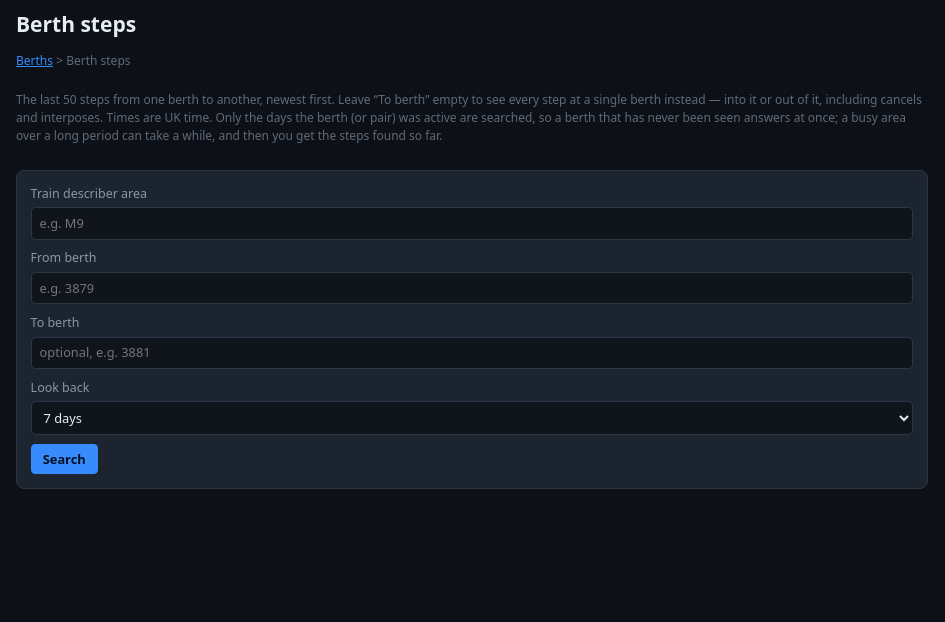
Test: BerthStepsPage (owner request 2026-09-22) › asks for the last 50 steps of the pair and lists them newest first in UK time
In the field labelled "Train describer area": point(472, 224) top-left (31, 207), bottom-right (913, 240), type "m9"
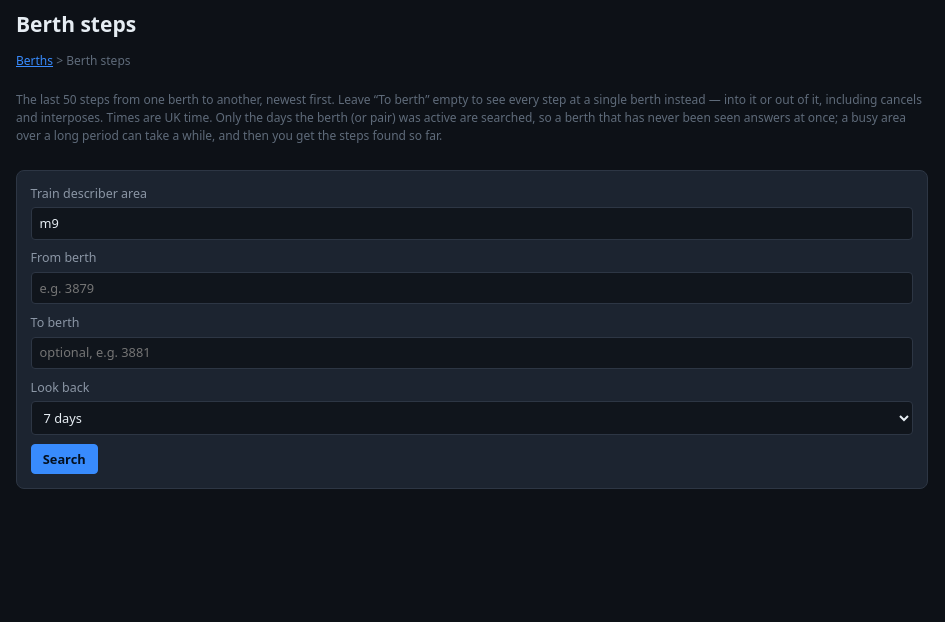
In the field labelled "From berth": point(472, 288) top-left (31, 272), bottom-right (913, 304), type "3879"
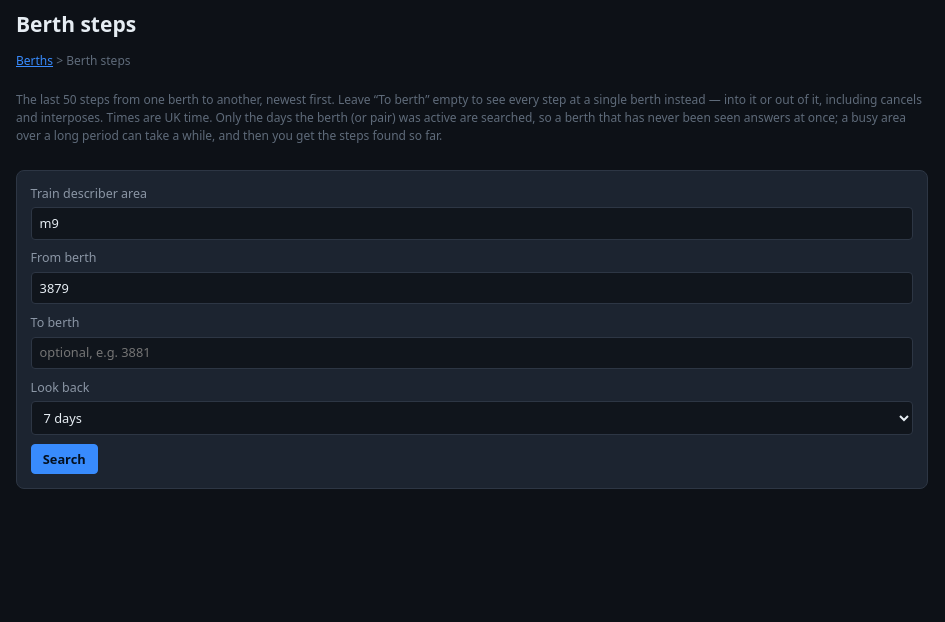
In the field labelled "To berth": point(472, 353) top-left (31, 337), bottom-right (913, 369), type "3881"
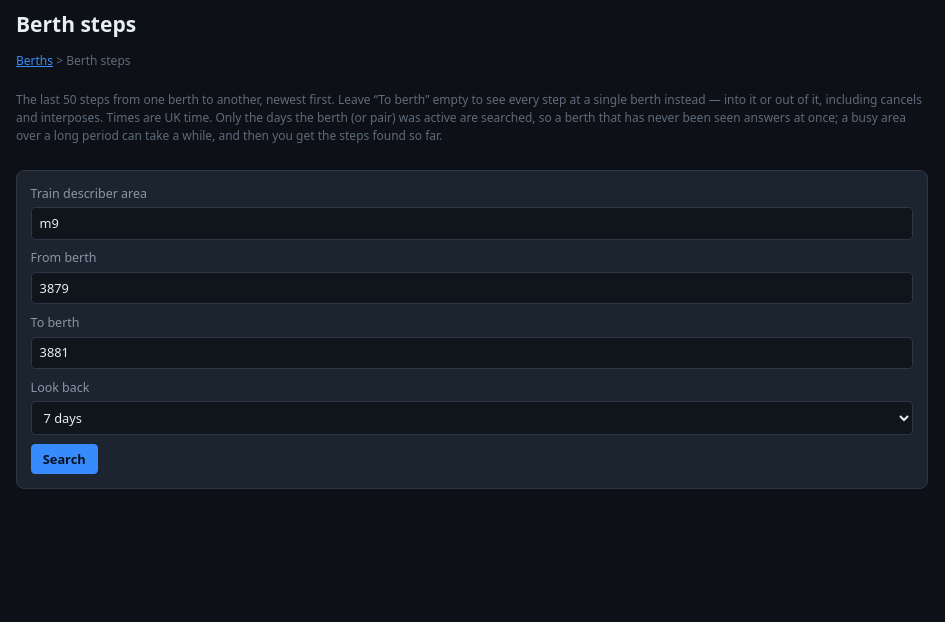
Click the button "Search": point(64, 459) top-left (31, 444), bottom-right (98, 474)
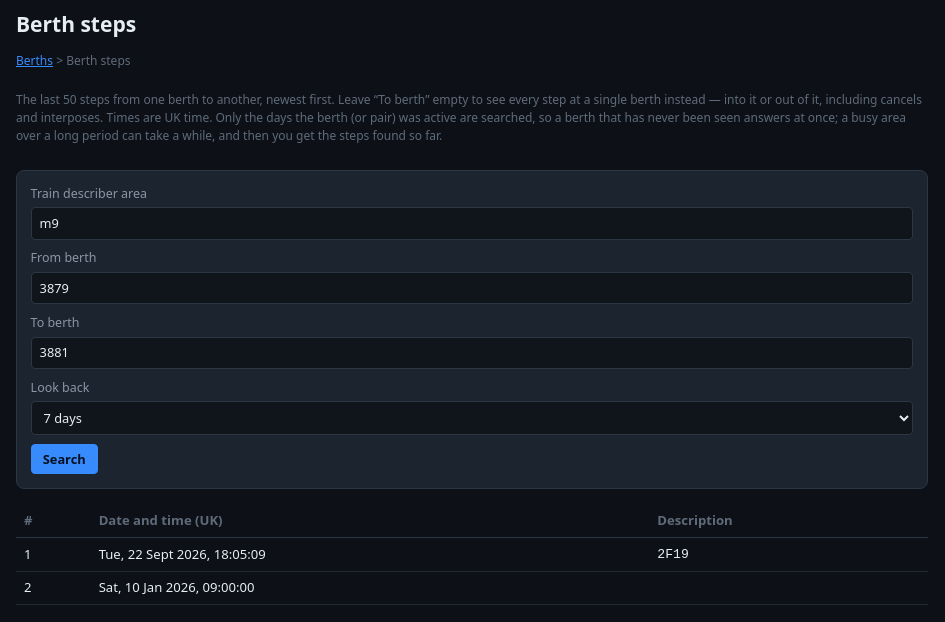
Expected: the table named "3879 to 3881" shows "18:05:09", top-left (99, 544), bottom-right (266, 562)
Expected: the table named "3879 to 3881" shows "2F19", top-left (657, 546), bottom-right (689, 562)
Expected: the table named "3879 to 3881" shows "09:00:00", top-left (99, 578), bottom-right (255, 596)
